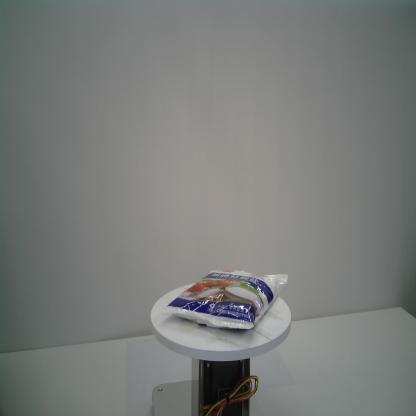Seasoner: (162, 268, 289, 331)
